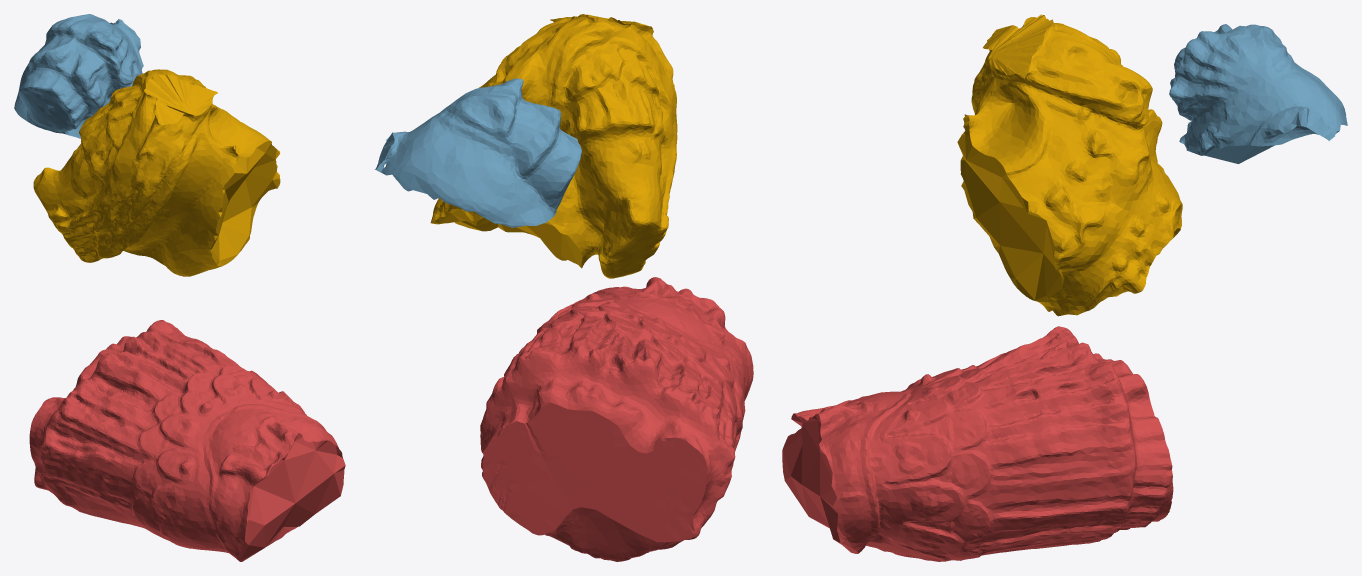
File: fractured_13_3pcs_transformed.glb
3 renders of one model, left to right at view 1: azimuth 30°, elevation 25°; view 2: azimuth 150°, elevation 25°; view 3: azimuth 270°, elevation 25°, orthographic. The views are drawn at different scales.
Parts seen in each view (by area): view 1: piece_1.obj, piece_0.obj, piece_2.obj; view 2: piece_1.obj, piece_0.obj, piece_2.obj; view 3: piece_1.obj, piece_0.obj, piece_2.obj.
Part boxes in pixels (<box>): piece_1.obj: <box>29,320,345,561</box>; piece_0.obj: <box>33,69,280,276</box>; piece_2.obj: <box>14,14,143,138</box>; piece_1.obj: <box>480,277,753,561</box>; piece_0.obj: <box>430,14,677,278</box>; piece_2.obj: <box>374,78,582,227</box>; piece_1.obj: <box>782,326,1173,561</box>; piece_0.obj: <box>957,14,1182,316</box>; piece_2.obj: <box>1169,24,1347,163</box>.
Bounding box in the file's own units: 0.6188 × 1.08 × 1.03.
